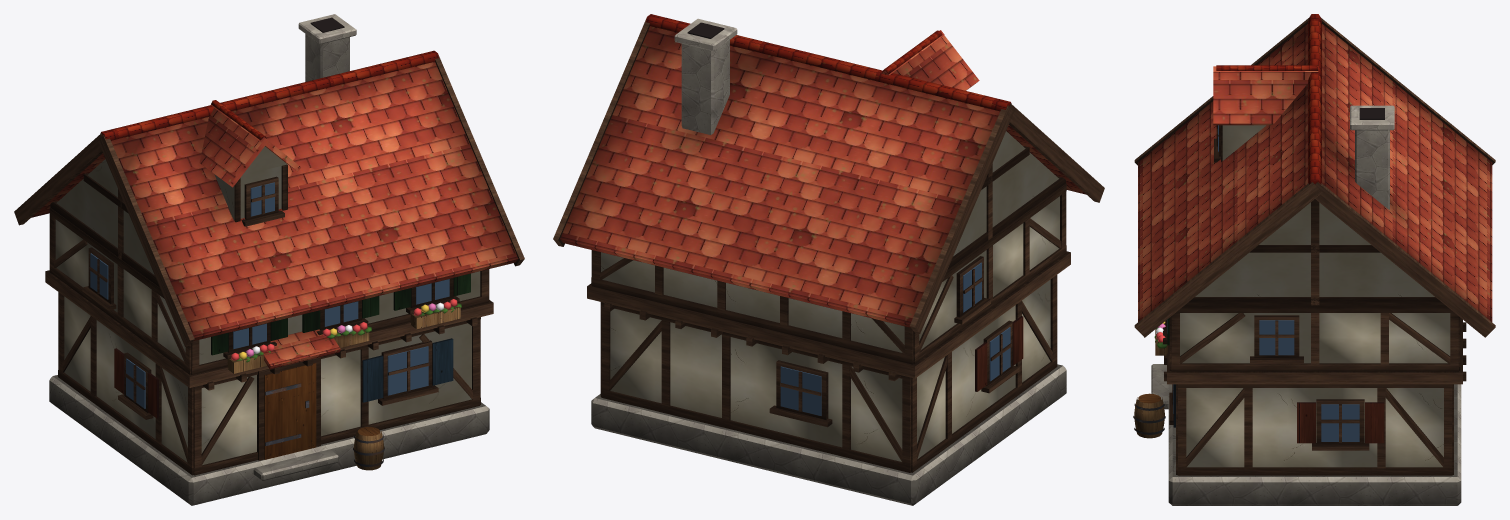
The model's file is kit_town.glb.
3 renders of one model, left to right at view 1: azimuth 30°, elevation 25°; view 2: azimuth 150°, elevation 25°; view 3: azimuth 270°, elevation 25°, orthographic. The views are drawn at different scales.
Parts seen in each view (by area): view 1: town_house_big_mesh; view 2: town_house_big_mesh; view 3: town_house_big_mesh.
Part boxes in pixels (x1,y1,x2,y2): town_house_big_mesh: [14, 14, 524, 505]; town_house_big_mesh: [553, 14, 1104, 505]; town_house_big_mesh: [1133, 14, 1495, 505].
Bounding box in the file's own units: 6.23 × 6.28 × 5.69.
15 materials, 10 textured.
